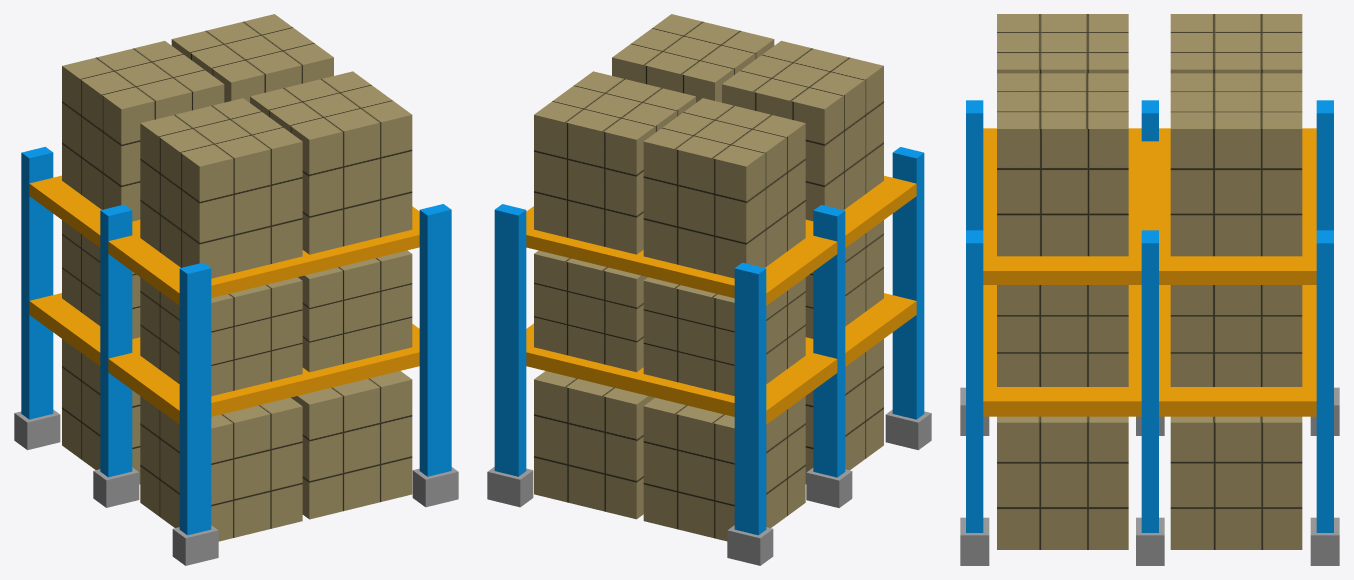
File: Shelf.FBX
3 renders of one model, left to right at view 1: azimuth 30°, elevation 25°; view 2: azimuth 150°, elevation 25°; view 3: azimuth 270°, elevation 25°, orthographic. The views are drawn at different scales.
Parts seen in each view (by area): view 1: Box001; view 2: Box001; view 3: Box001.
Part boxes in pixels (bbox=[...]): Box001: bbox=[14, 14, 458, 565]; Box001: bbox=[487, 14, 931, 565]; Box001: bbox=[960, 14, 1339, 565].
Size of the model in its own units: 3.98 by 5.29 by 4.32.
